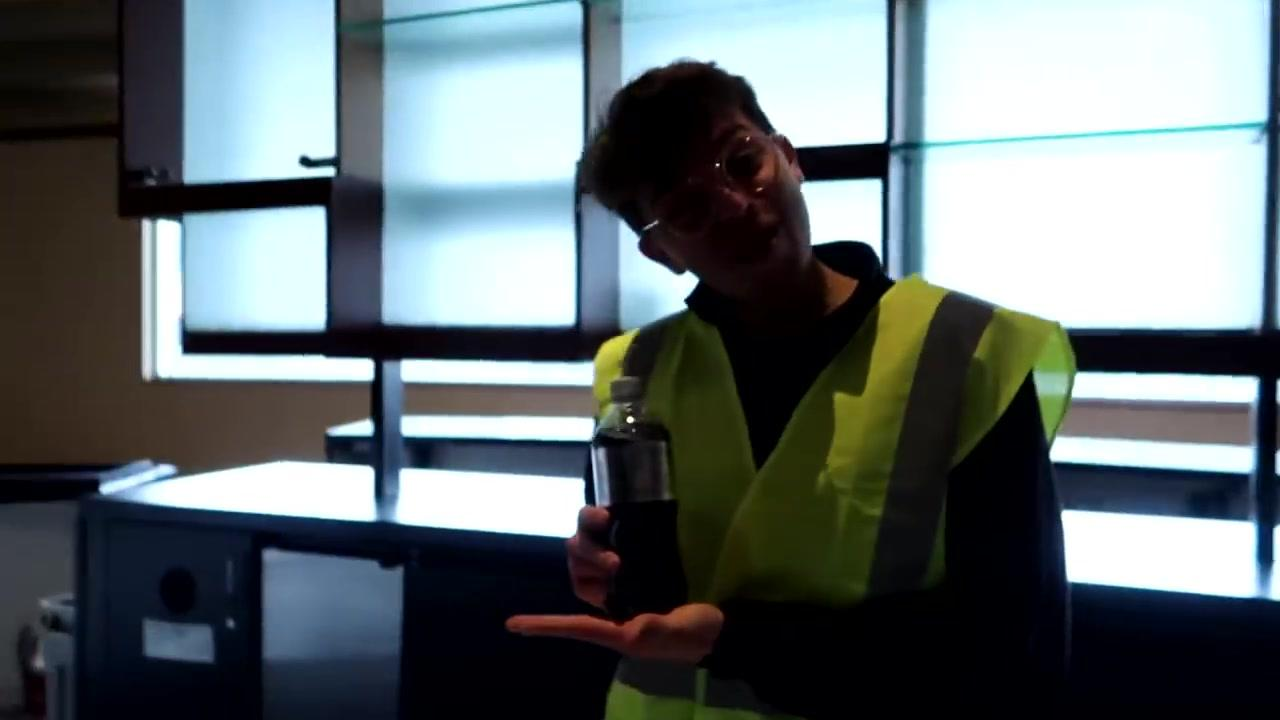Hi-Vis Jacket: (614, 294, 1033, 710)
mask: (688, 185, 814, 267)
